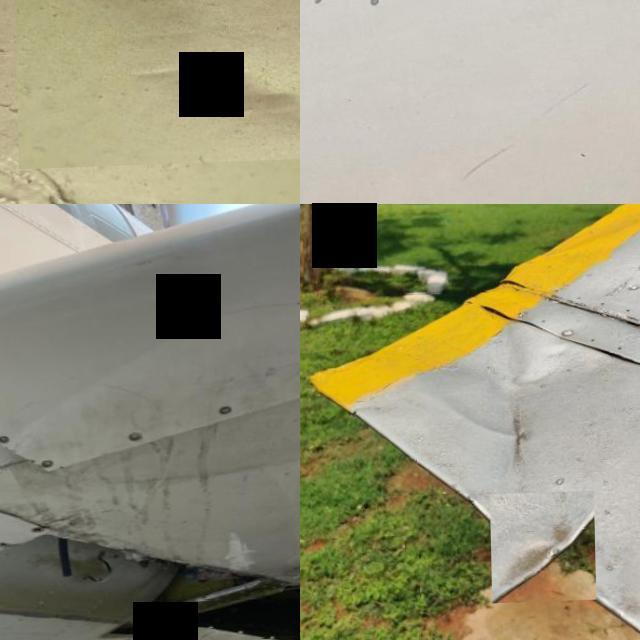Dent: (12, 0, 300, 171), (488, 494, 594, 606)
Missing_Fastener: (212, 406, 237, 422), (122, 434, 144, 446), (36, 460, 55, 472), (28, 529, 44, 538), (0, 436, 13, 446), (0, 542, 7, 551)
